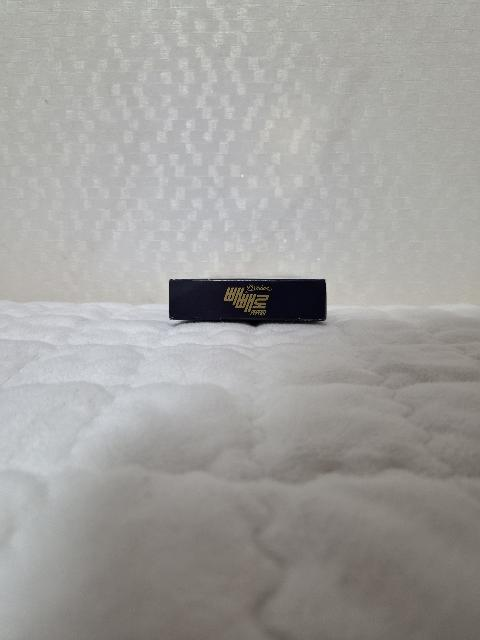pepero: (168, 278, 326, 322)
